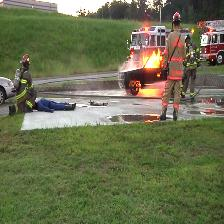fire: (142, 50, 164, 70)
